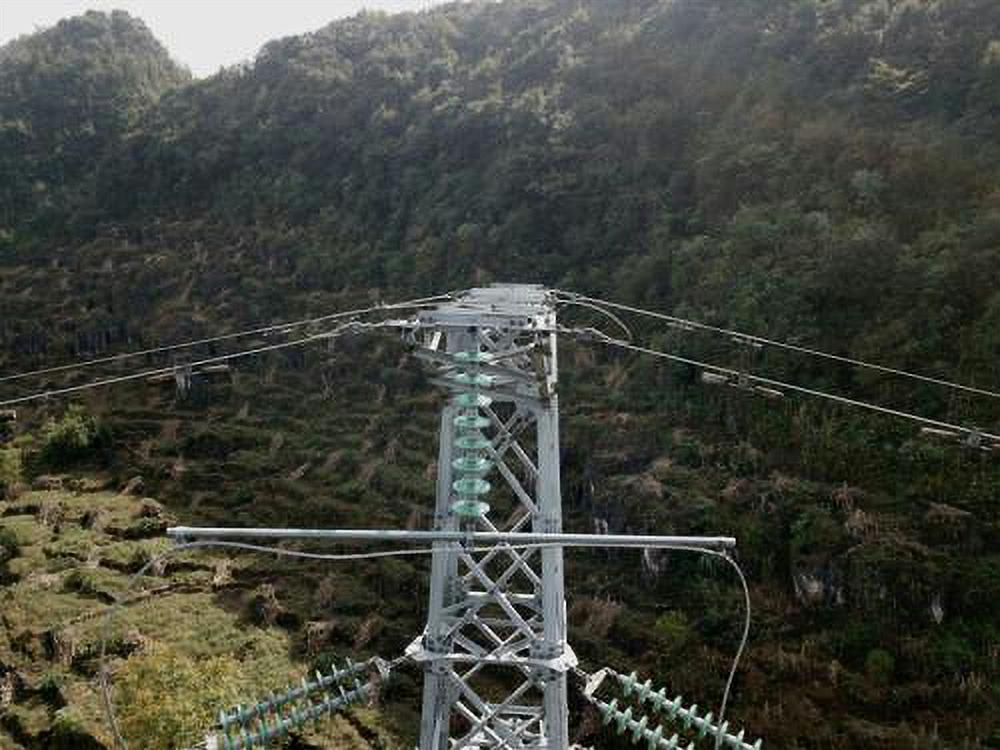insulator: (215, 653, 372, 750), (618, 668, 765, 750), (447, 345, 497, 522), (597, 696, 698, 750)
